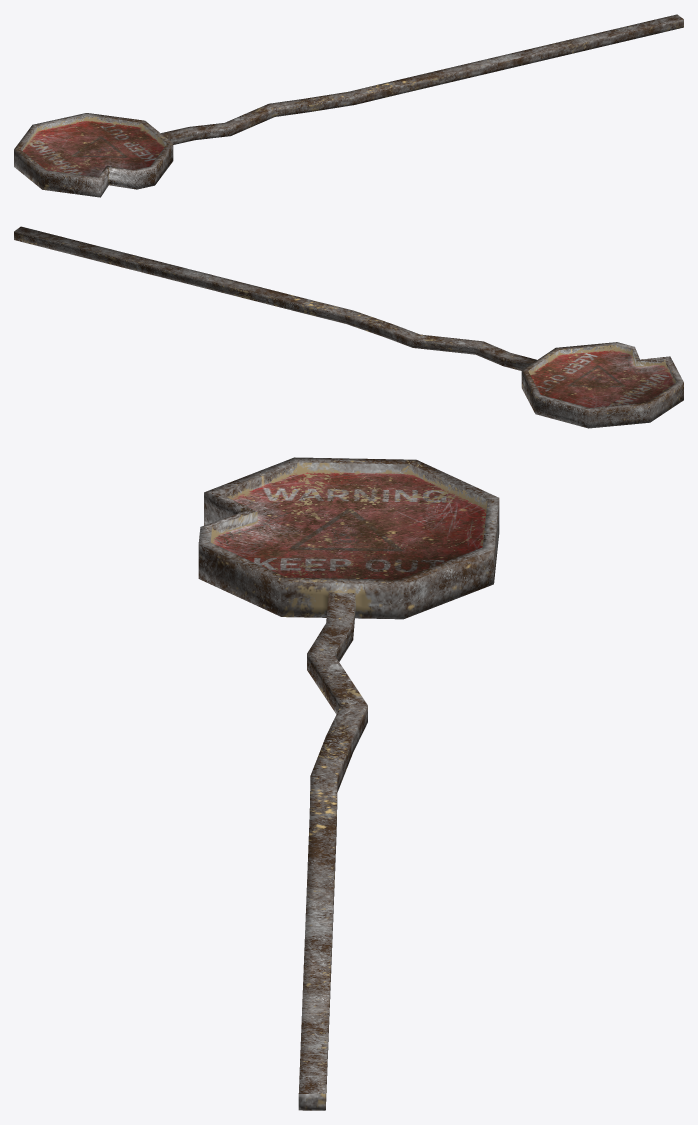
The model's file is Senyal.obj.
3 renders of one model, top to bottom at view 1: azimuth 30°, elevation 25°; view 2: azimuth 150°, elevation 25°; view 3: azimuth 270°, elevation 25°, orthographic. The views are drawn at different scales.
Bounding box in the file's own units: 12.53 × 0.3236 × 2.54.
Materials: 1 (1 with a texture image).
